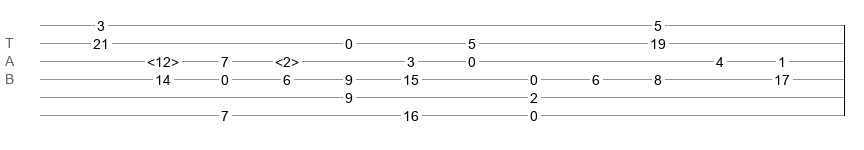0: (221, 72, 229, 82), (345, 36, 353, 46), (468, 54, 476, 64), (530, 108, 538, 118), (530, 72, 538, 82)
1: (778, 54, 786, 64)
14: (155, 72, 171, 82)
15: (403, 72, 419, 82)
16: (403, 108, 419, 118)
17: (774, 72, 790, 82)
19: (650, 36, 666, 46)
2: (530, 90, 538, 100)
21: (93, 36, 109, 46)
3: (97, 18, 105, 28), (407, 54, 415, 64)
4: (716, 54, 724, 64)
5: (468, 36, 476, 46), (654, 18, 662, 28)
6: (283, 72, 291, 82), (592, 72, 600, 82)
7: (221, 108, 229, 118), (221, 54, 229, 64)
8: (654, 72, 662, 82)
9: (345, 90, 353, 100), (345, 72, 353, 82)
harmonic: (147, 54, 179, 64), (275, 54, 299, 64)
